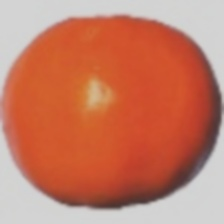tangerine: (30, 47, 224, 217)
